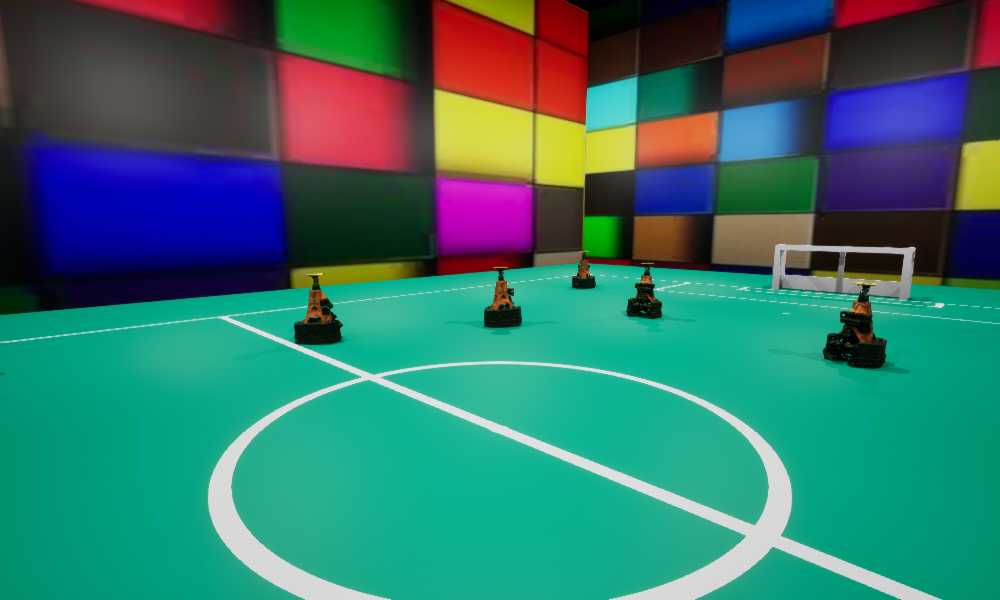o: (823, 282, 886, 367), (294, 273, 342, 344), (484, 267, 521, 327), (626, 263, 661, 317), (572, 251, 595, 288)
